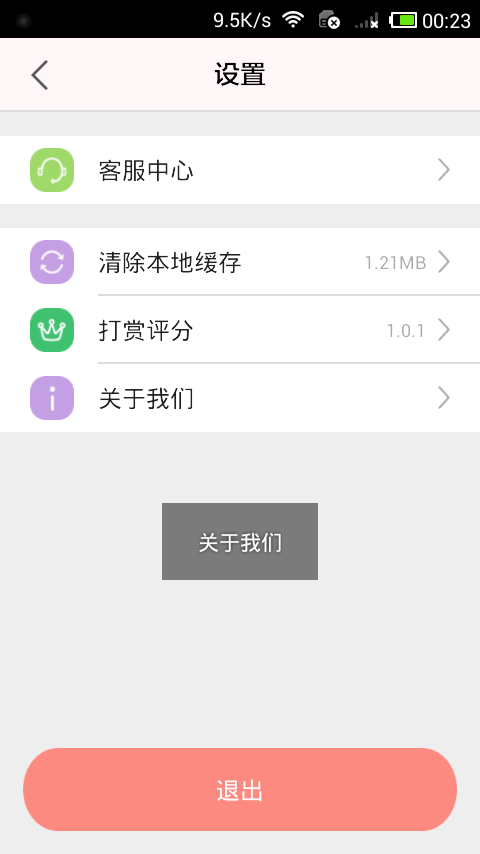alert: (148, 500, 348, 589)
button: (7, 741, 465, 840)
textview: (3, 40, 478, 108), (5, 367, 433, 433), (7, 137, 431, 202), (11, 231, 436, 294), (15, 302, 439, 365)
